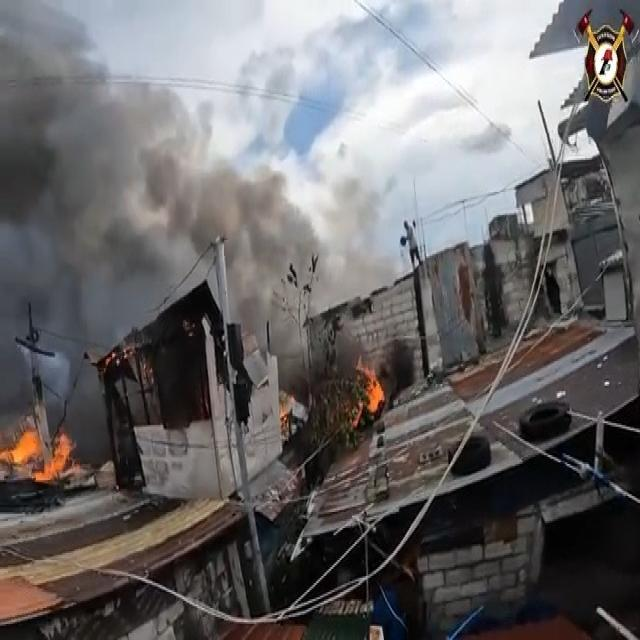Fire: (0, 416, 80, 491), (355, 359, 387, 437), (274, 390, 296, 440)
Smoke: (0, 32, 321, 468), (275, 326, 366, 396), (378, 341, 422, 397)
